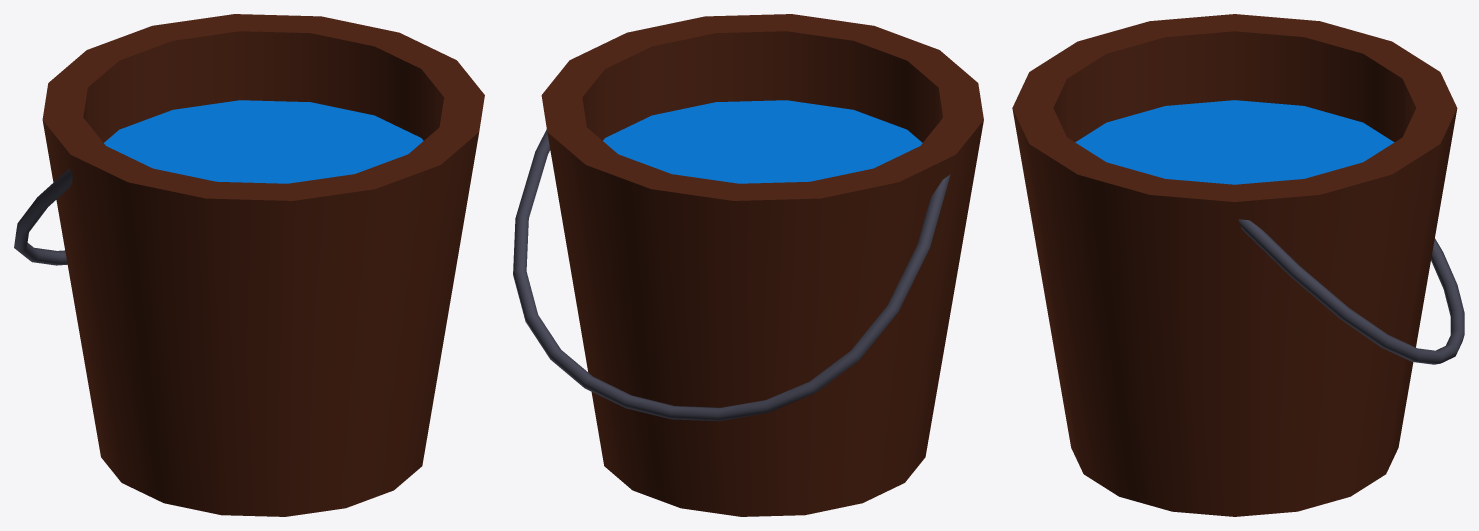
Rendered from WaterBucket.fbx.
3 views of the same model, side by side, from view 1: azimuth 30°, elevation 25°; view 2: azimuth 150°, elevation 25°; view 3: azimuth 270°, elevation 25° (orthographic).
Parts seen in each view (by area): view 1: Cylinder; view 2: Cylinder; view 3: Cylinder.
Boxes of the visible parts, <box> form: Cylinder: <box>14,14,484,516</box>; Cylinder: <box>513,14,983,516</box>; Cylinder: <box>1012,14,1464,516</box>.
Bounding box in the file's own units: 79.94 × 65.94 × 79.55.
